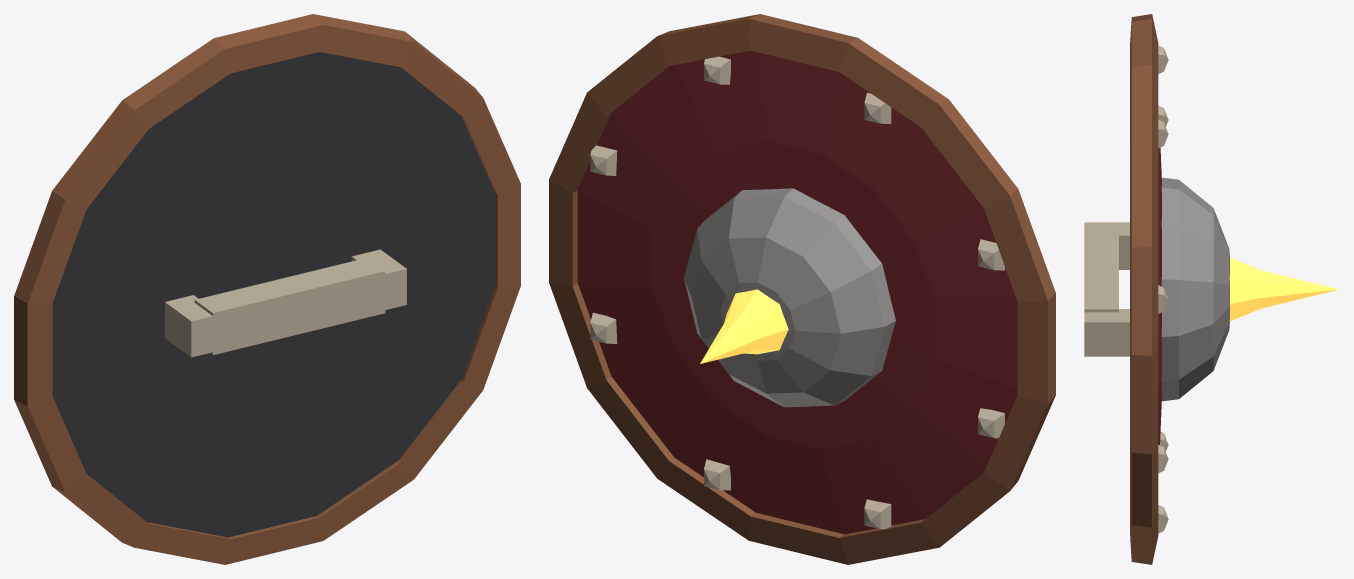
The model's file is held-buckler.glb.
The picture shows the model from 3 angles, left to right: view 1: azimuth 30°, elevation 25°; view 2: azimuth 150°, elevation 25°; view 3: azimuth 270°, elevation 25°; orthographic projection. The views are drawn at different scales.
Visible parts, largest first — view 1: plate, rim, grip; view 2: plate, rim, boss, rivets, spike; view 3: rim, boss, grip, spike, rivets, plate.
Part boxes in pixels (x1,y1,x2,y2): plate: (52,52,495,537); rim: (14,14,520,564); grip: (165,249,406,357); plate: (577,50,1017,534); rim: (549,14,1055,564); boss: (684,188,895,407); rivets: (590,56,1004,529); spike: (700,289,788,363); rim: (1130,14,1158,564); boss: (1161,177,1229,401); grip: (1084,222,1129,356); spike: (1229,257,1339,321); rivets: (1158,45,1168,533); plate: (1158,147,1161,444).
Size of what is drawn, in the model's own units: 0.3472 by 0.3472 by 0.162.
